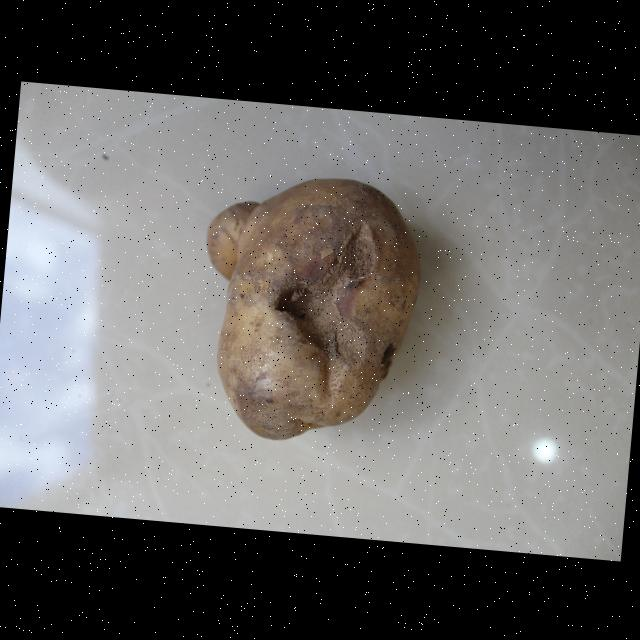Damaged potato: (178, 160, 432, 454)
